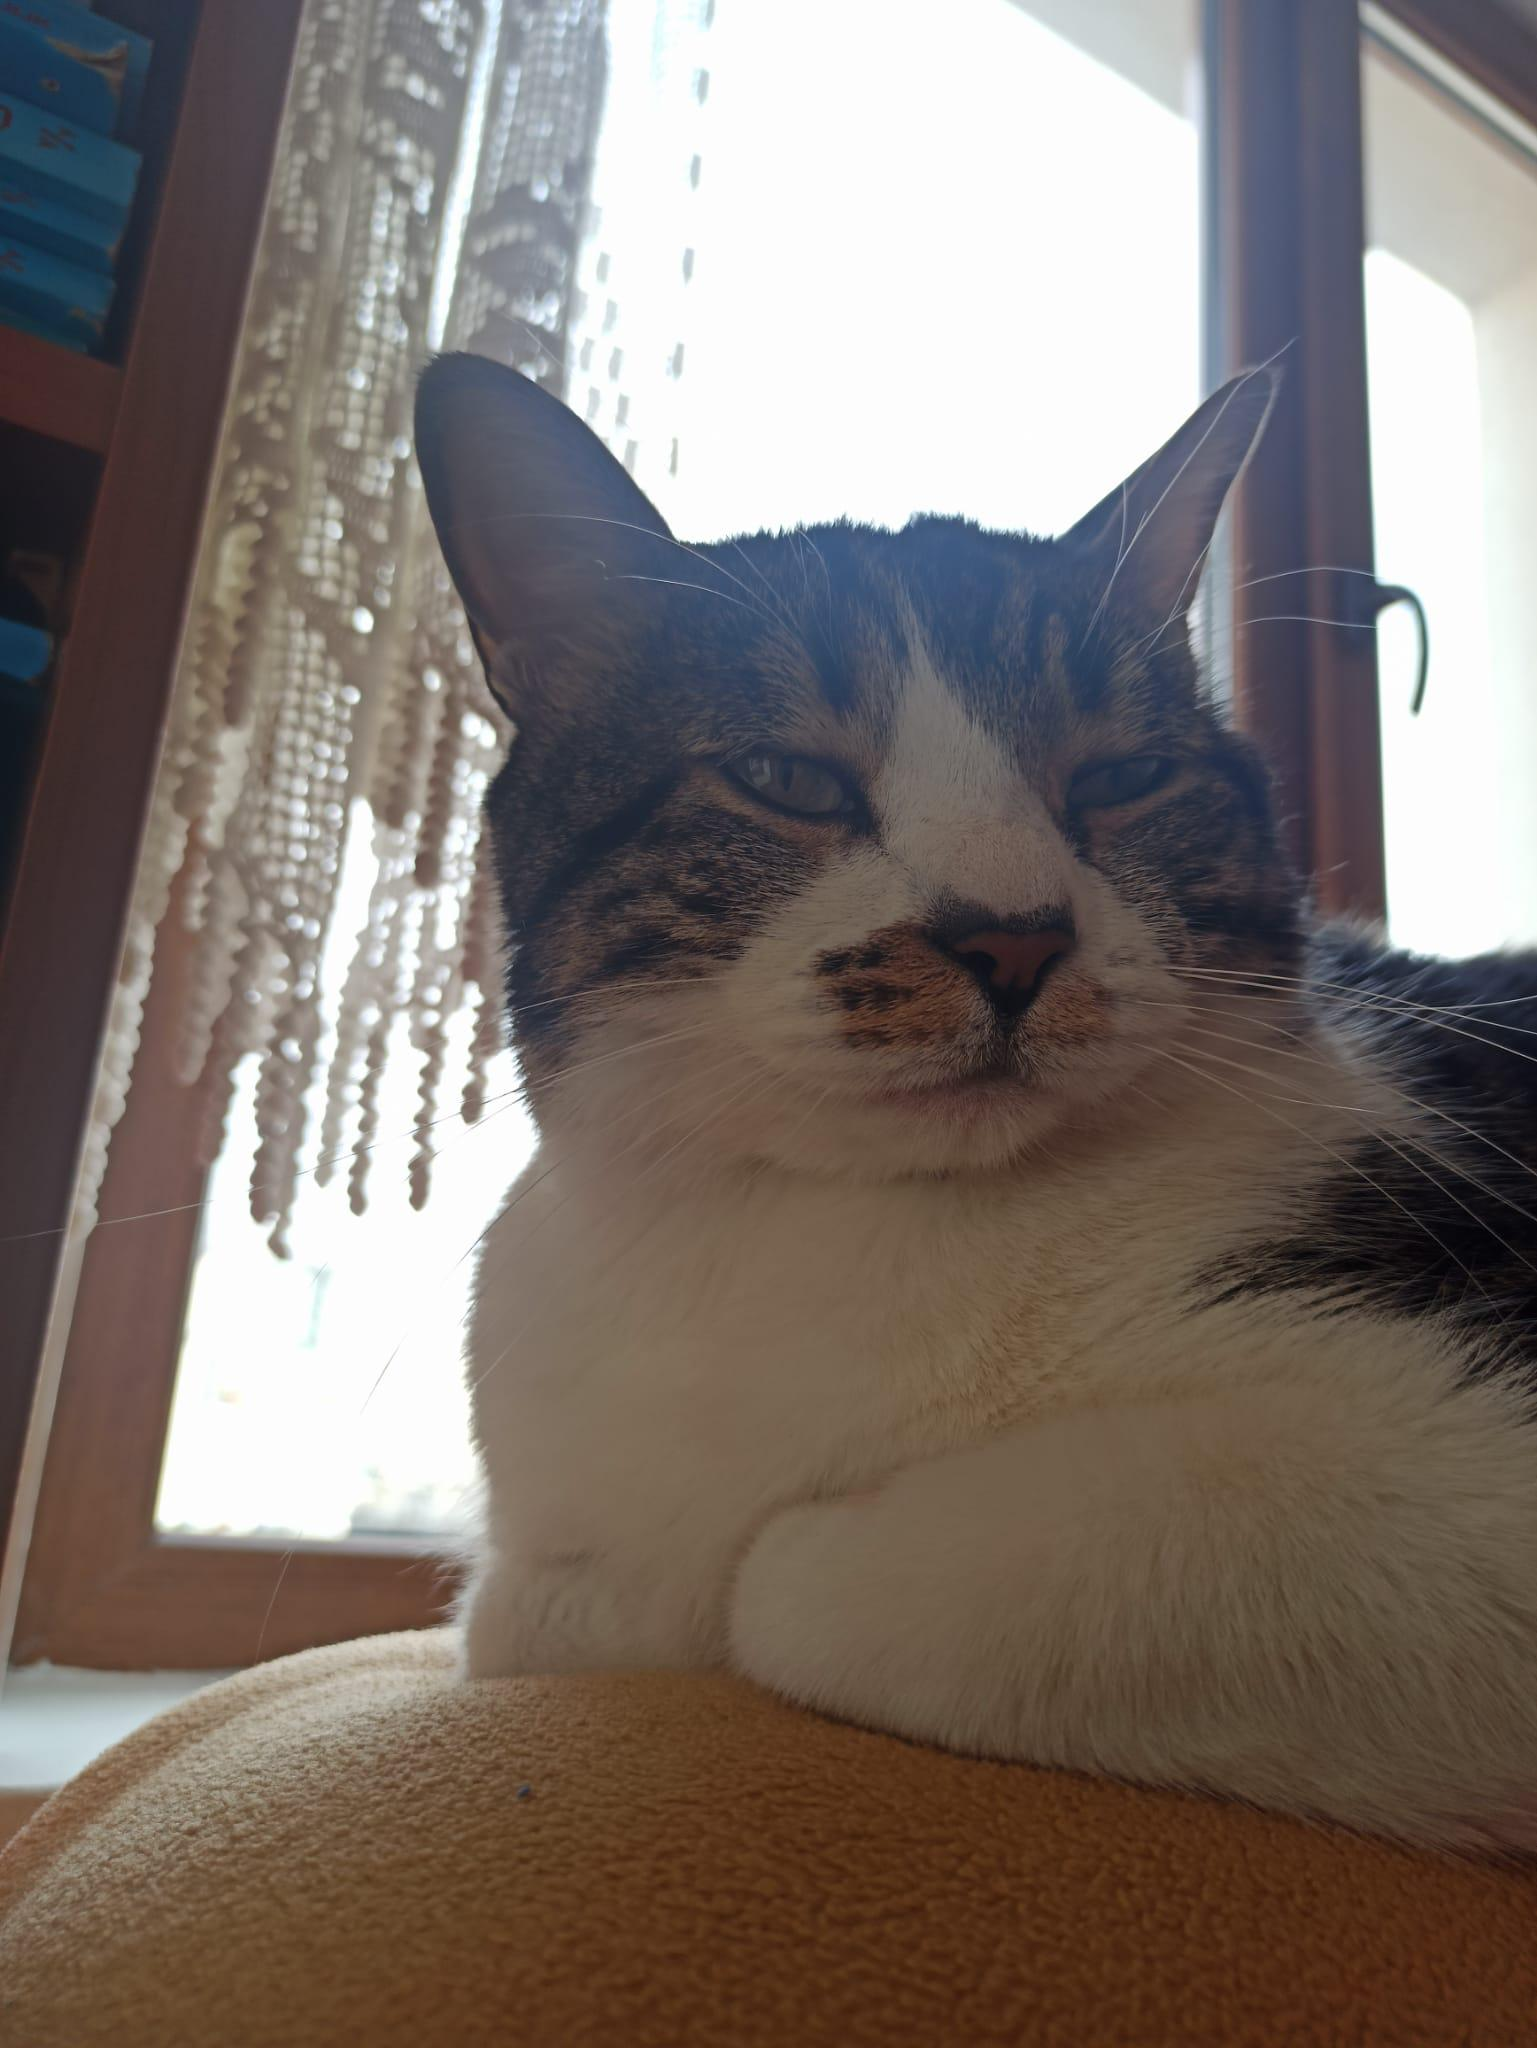kedo: (410, 360, 1537, 1835)
